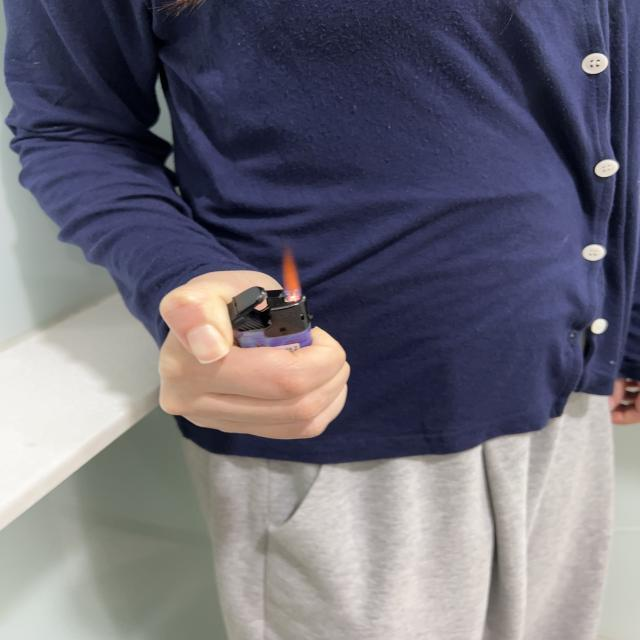fire: (279, 242, 303, 302)
